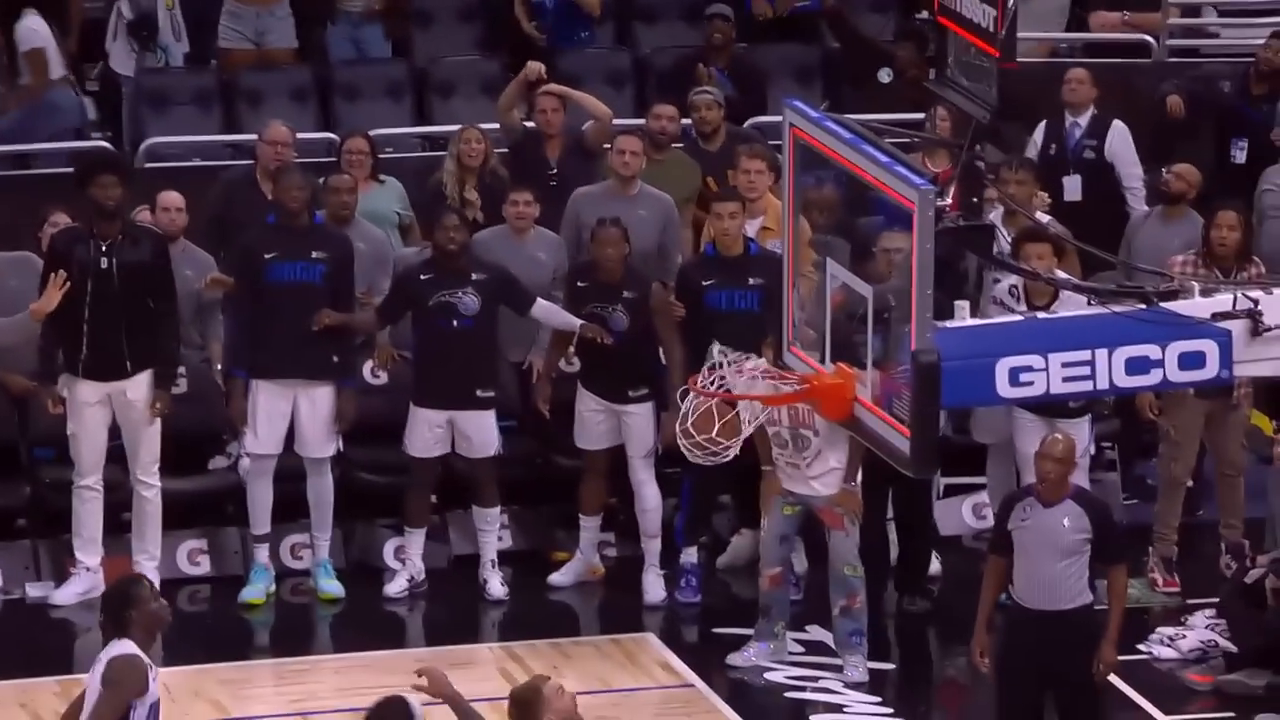ball: (675, 396, 748, 465)
net: (674, 336, 808, 466)
